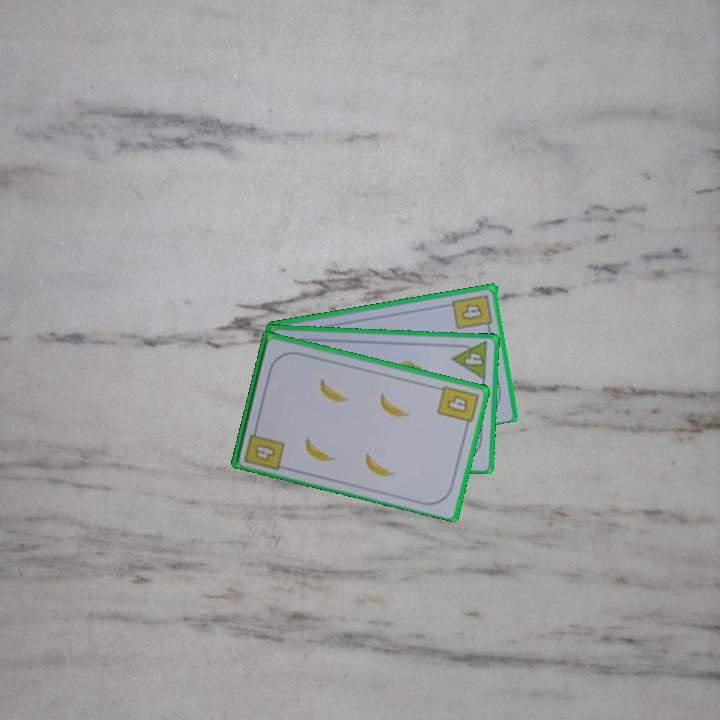4b: (434, 382, 481, 431), (241, 422, 287, 472), (449, 291, 496, 333)
4p: (449, 338, 491, 382)
